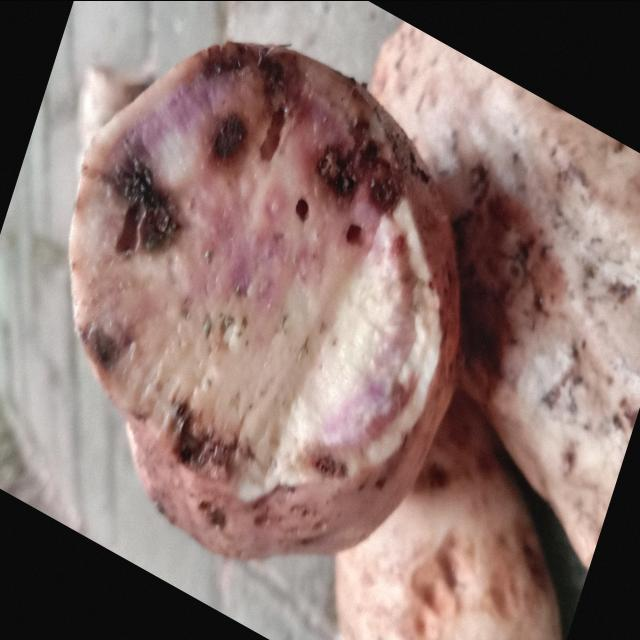Sick Sweet Potato_Tuber Rot: (70, 42, 459, 500)
